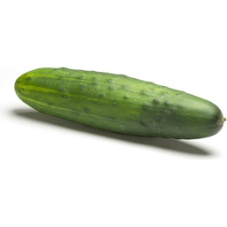cucumber: (16, 66, 224, 143)
